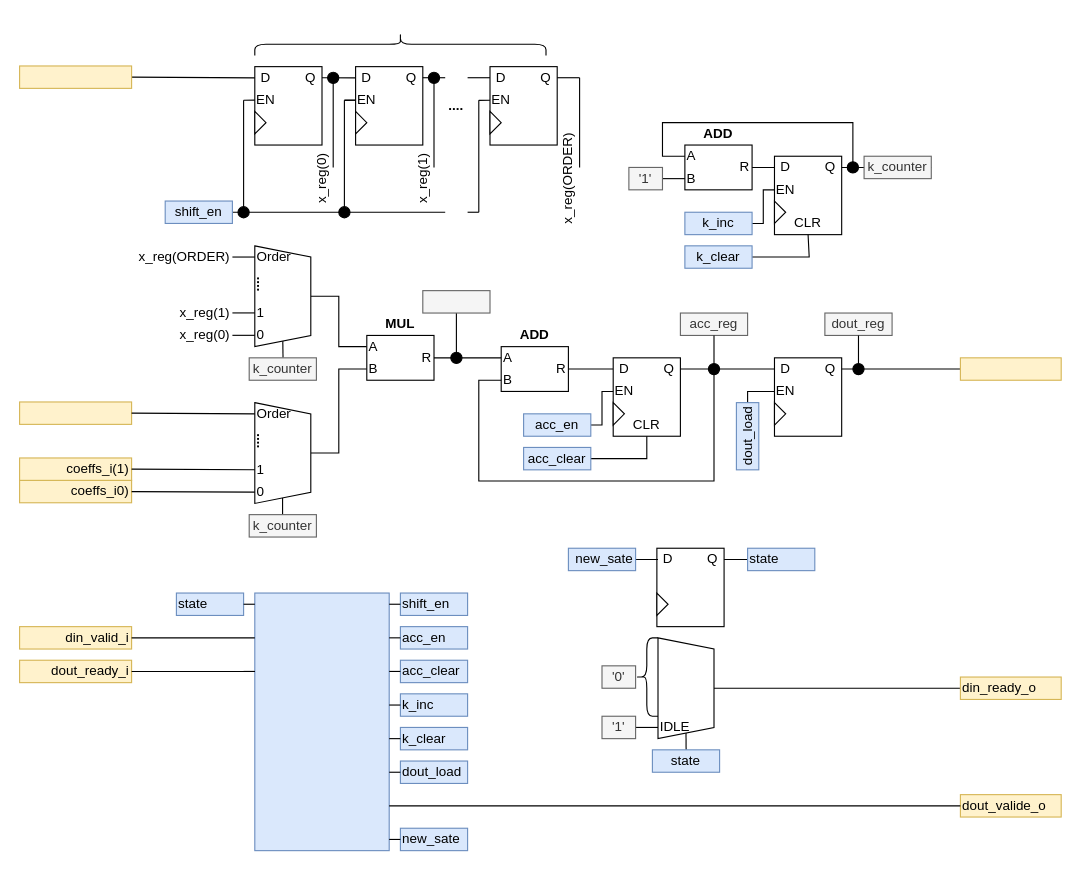
Image size: 1081x870. Some labels were removed from this diagram. Each missing label, with the centre of its shape:
"coeffs_i(ORDER)" belongs at (75,412).
"din_i" belongs at (75,76).
"dout_o" belongs at (1010,368).
"FSM" belongs at (321,721).
"ORDER +1" belongs at (400,43).
"product" belongs at (456,301).
